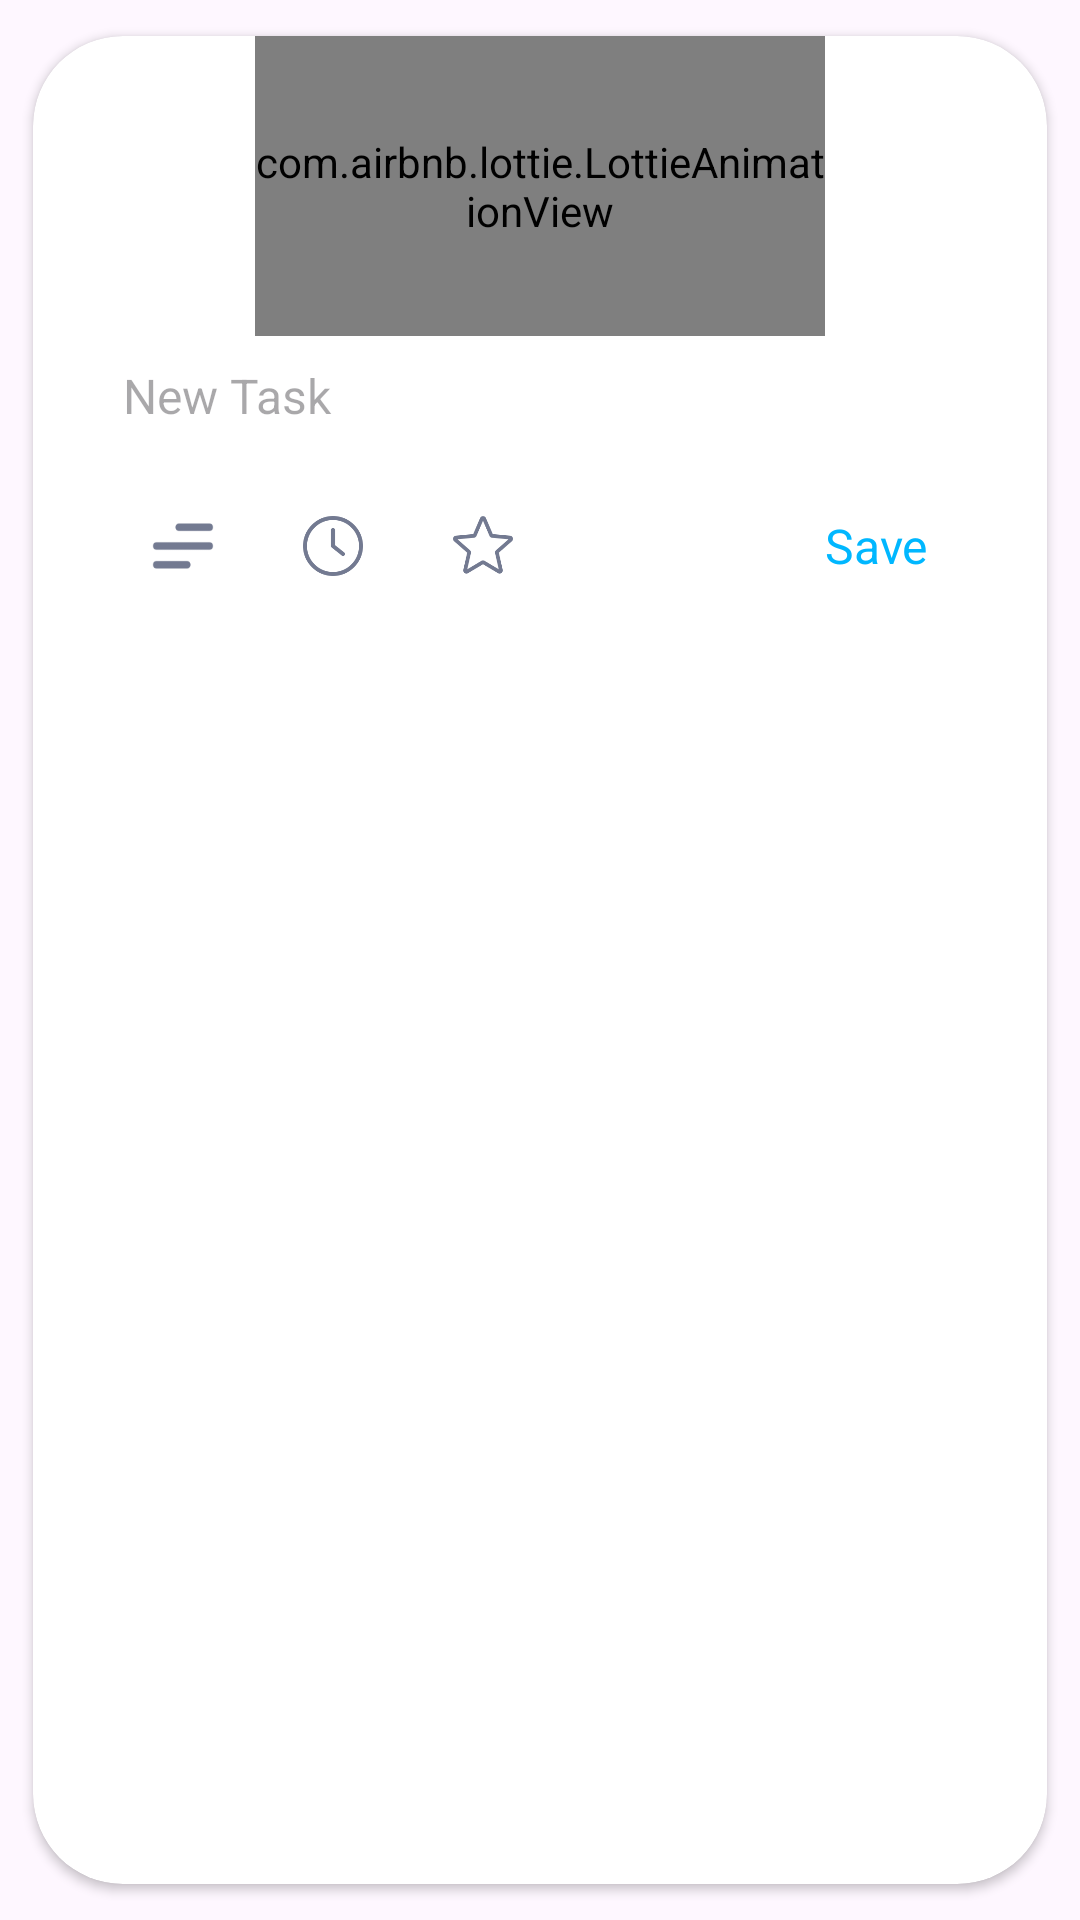

Named icons in this screenshot (1080px×1920px) and their centers, (x,y):
date: (333,546)
details: (183,546)
mark not important: (483,545)
